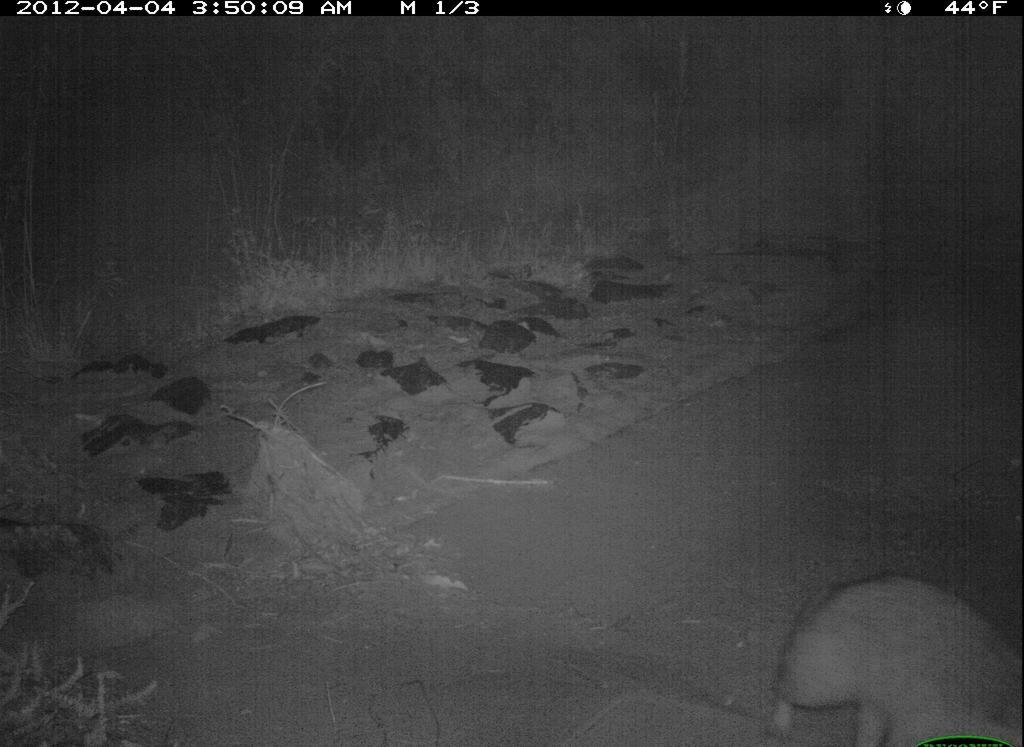raccoon: (753, 568, 1019, 747)
